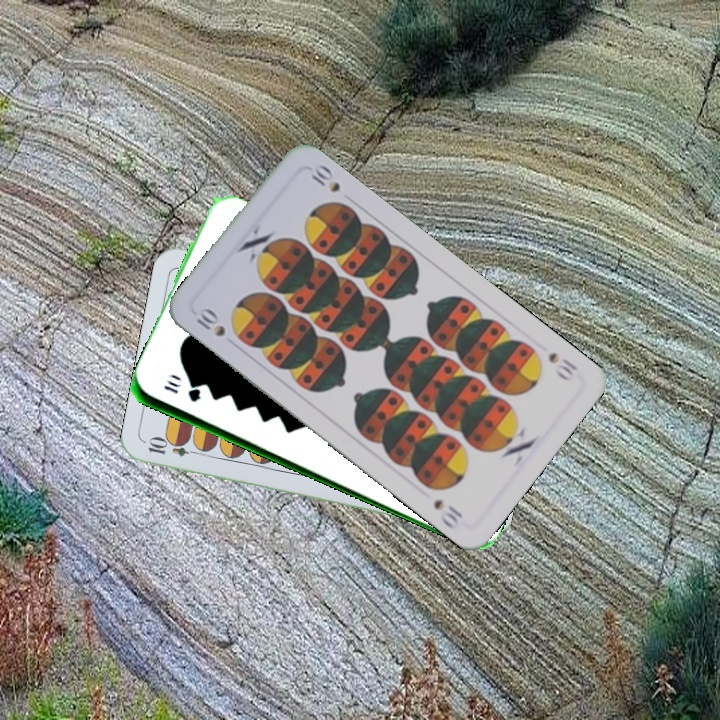E10: (144, 436, 203, 460)
G10: (160, 376, 204, 405)
S10: (544, 348, 581, 384), (192, 306, 228, 340)
